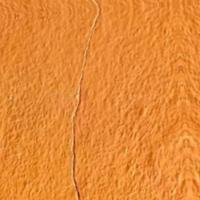crack: (66, 41, 114, 199)
